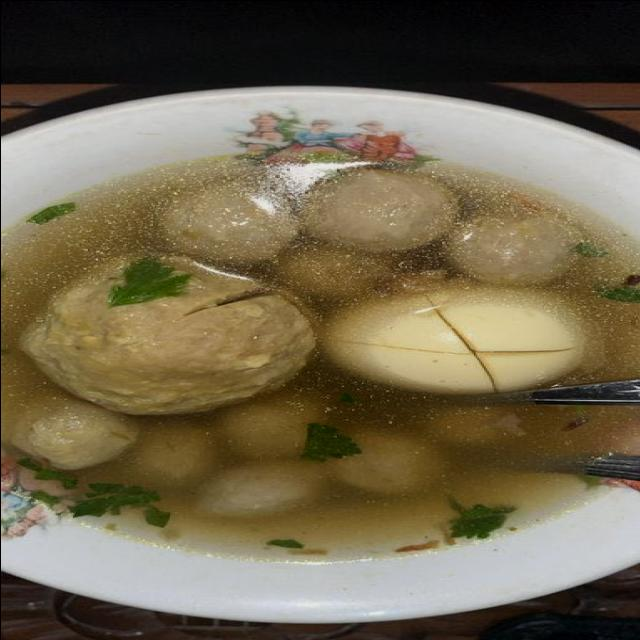bakso: (0, 142, 640, 558)
